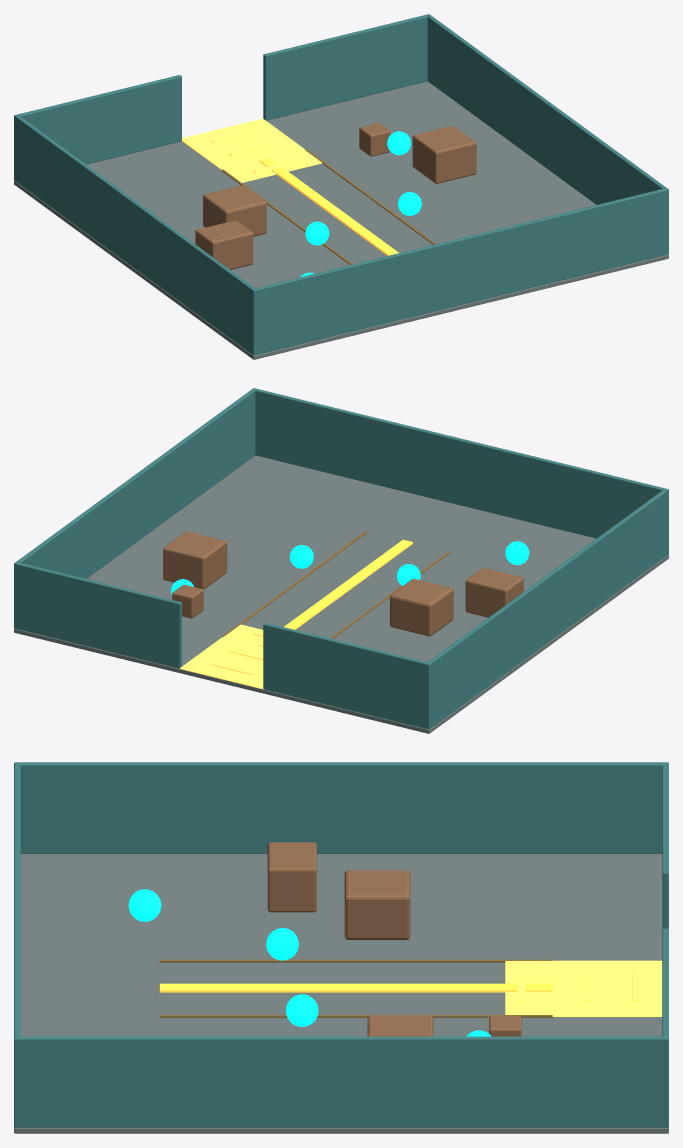
File: saltglass_brine_docks_final.glb
3 views of the same model, one above another, from view 1: azimuth 30°, elevation 25°; view 2: azimuth 150°, elevation 25°; view 3: azimuth 270°, elevation 25° (orthographic). The views are drawn at different scales.
Parts seen in each view (by area): view 1: GB_floor_brine_docks, GB_wall_south, GB_wall_west, GB_wall_east, GB_wall_north_east, GB_wall_north_west, GB_exit_route, GB_cover_crate_east, GB_cover_crate_center, GB_cover_crate_west, GB_lane_flow_central, GB_cover_bollard; view 2: GB_floor_brine_docks, GB_wall_south, GB_wall_west, GB_wall_east, GB_wall_north_west, GB_wall_north_east, GB_cover_crate_center, GB_exit_route, GB_cover_crate_east, GB_cover_crate_west, GB_lane_flow_central, GB_cover_bollard; view 3: GB_floor_brine_docks, GB_wall_east, GB_wall_west, GB_exit_route, GB_cover_crate_center, GB_lane_flow_central, GB_cover_crate_west, GB_wall_south, GB_lane_guide_01, GB_cover_crate_east, GB_wall_north_west, GB_wall_north_east (+5 smaller).
Boxes of the visible parts, x1,y1,x2,y2 form: GB_floor_brine_docks: (14, 81, 668, 359); GB_wall_south: (251, 188, 668, 354); GB_wall_west: (15, 114, 257, 355); GB_wall_east: (427, 14, 668, 254); GB_wall_north_east: (263, 14, 429, 120); GB_wall_north_west: (14, 75, 181, 181); GB_exit_route: (182, 118, 321, 182); GB_cover_crate_east: (412, 126, 476, 183); GB_cover_crate_center: (203, 185, 266, 236); GB_cover_crate_west: (195, 220, 253, 269); GB_lane_flow_central: (259, 158, 398, 255); GB_cover_bollard: (359, 123, 390, 156); GB_floor_brine_docks: (14, 455, 668, 733); GB_wall_south: (252, 388, 668, 555); GB_wall_west: (425, 488, 668, 729); GB_wall_east: (14, 388, 255, 628); GB_wall_north_west: (263, 623, 431, 729); GB_wall_north_east: (14, 562, 181, 668); GB_cover_crate_center: (390, 579, 453, 636); GB_exit_route: (180, 624, 263, 689); GB_cover_crate_east: (163, 531, 227, 589); GB_cover_crate_west: (465, 568, 523, 617); GB_lane_flow_central: (259, 539, 412, 646); GB_cover_bollard: (172, 584, 203, 618); GB_floor_brine_docks: (14, 853, 668, 1133); GB_wall_east: (14, 1036, 668, 1127); GB_wall_west: (14, 762, 668, 853); GB_exit_route: (505, 960, 662, 1016); GB_cover_crate_center: (344, 870, 410, 939); GB_lane_flow_central: (159, 983, 552, 992); GB_cover_crate_west: (267, 842, 316, 912); GB_wall_south: (14, 762, 20, 1127); GB_lane_guide_01: (159, 959, 552, 962); GB_cover_crate_east: (367, 1015, 433, 1036); GB_wall_north_west: (662, 762, 668, 928); GB_wall_north_east: (662, 928, 668, 1127).
Bounding box in the file's own units: 20 × 3.2 × 20.
